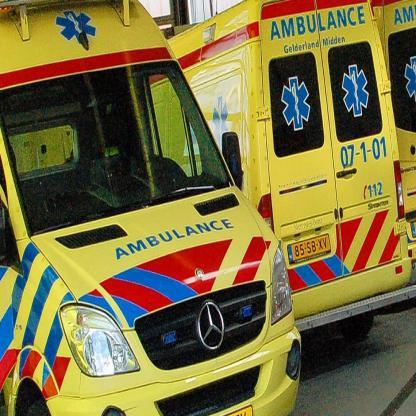Ambulance - v1 Ambulance last generate: (0, 0, 304, 415), (156, 0, 415, 329), (372, 0, 416, 223)
